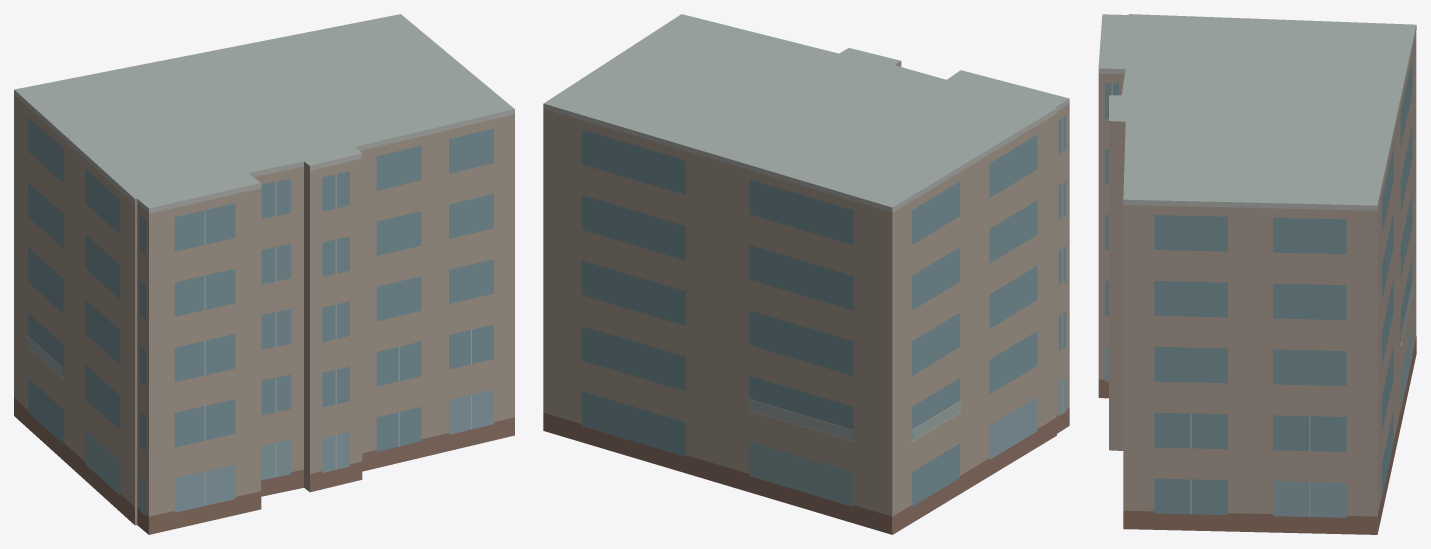
File: survey-upis-32760116.glb
The picture shows the model from 3 angles, left to right: view 1: azimuth 30°, elevation 25°; view 2: azimuth 150°, elevation 25°; view 3: azimuth 270°, elevation 25°; orthographic projection.
Visible parts, largest first — view 1: survey-upis-32760116.tmp; view 2: survey-upis-32760116.tmp; view 3: survey-upis-32760116.tmp.
Part boxes in pixels (<box>): survey-upis-32760116.tmp: <box>14,14,514,534</box>; survey-upis-32760116.tmp: <box>543,14,1069,534</box>; survey-upis-32760116.tmp: <box>1098,14,1416,534</box>.
Bounding box in the file's own units: 19.13 × 15.33 × 13.43.
